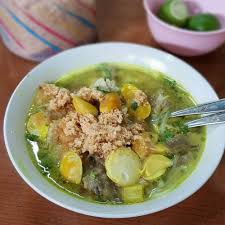soto: (12, 45, 223, 214)
